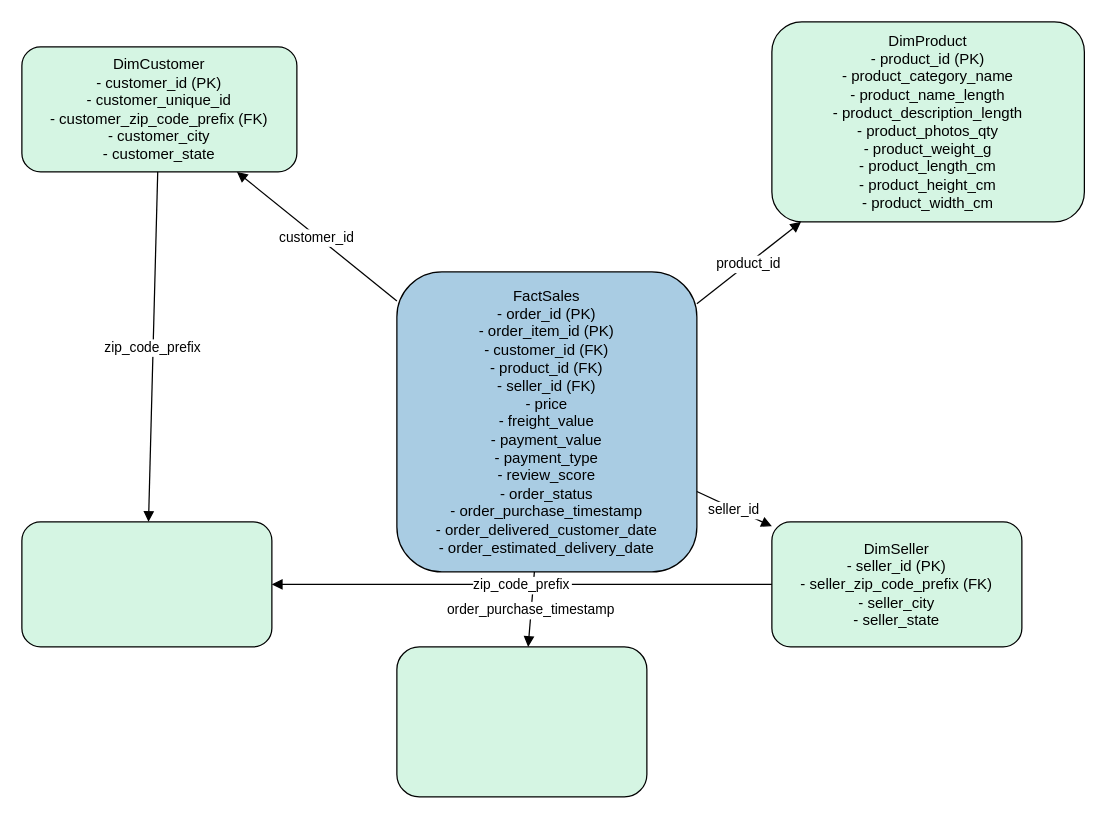
This 1106x819 diagram has some shape labels left out. The shapes that lost their labels are listed below. From the top down, each one's centre as x and y in pixels, then its label:
At pixel 146 584: "DimGeolocation - zip_code_prefix (PK) - latitude - longitude - city - state".
At pixel 521 721: "DimDate - date (PK) - year - month - day - week - weekday_name - is_weekend".
